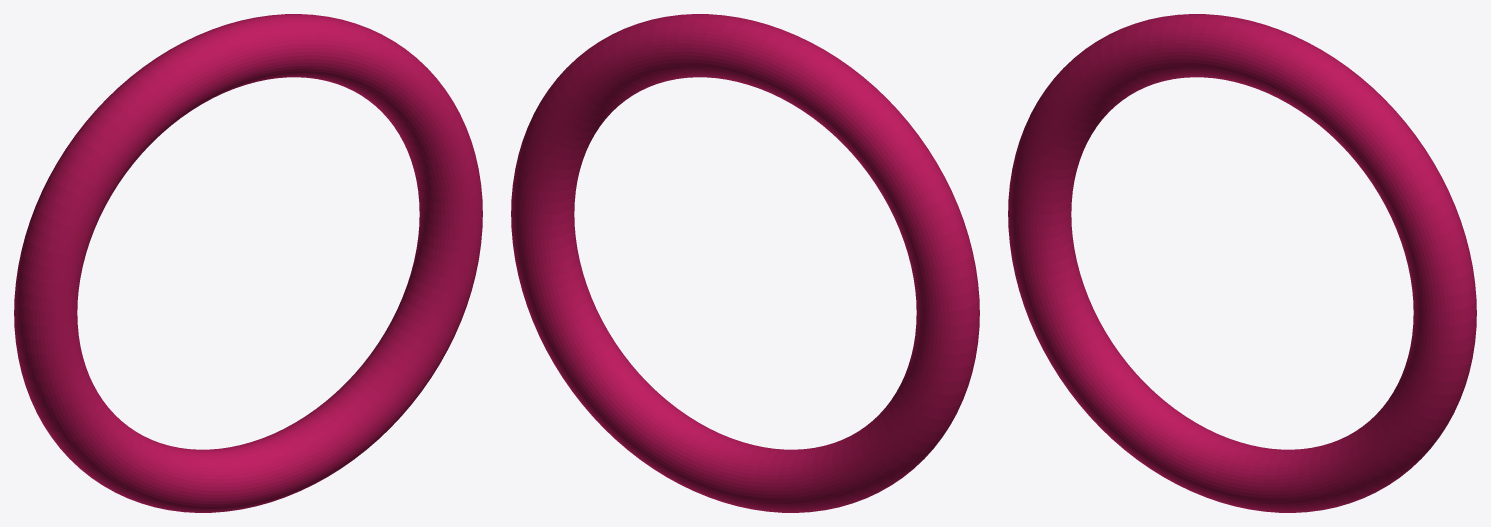
3 renders of one model, left to right at view 1: azimuth 30°, elevation 25°; view 2: azimuth 150°, elevation 25°; view 3: azimuth 330°, elevation 25°, orthographic.
Parts seen in each view (by area): view 1: world; view 2: world; view 3: world.
Part boxes in pixels (bbox=[...]): world: bbox=[14, 14, 482, 512]; world: bbox=[511, 14, 979, 512]; world: bbox=[1008, 14, 1476, 512].
Size of the model in its own units: 25.73 by 25.73 by 3.06.
